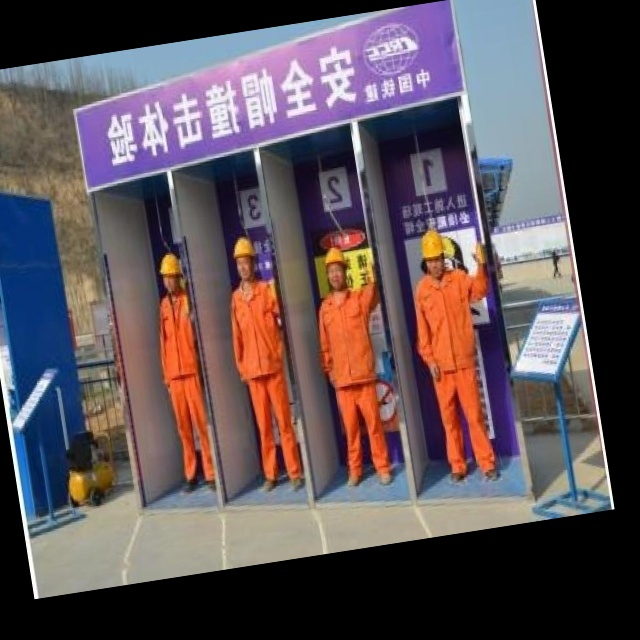Con_Casco: (321, 244, 352, 291), (419, 227, 446, 270), (231, 237, 258, 278)
Sin_Chaleco: (416, 270, 479, 374), (224, 278, 286, 381), (316, 287, 378, 387)
